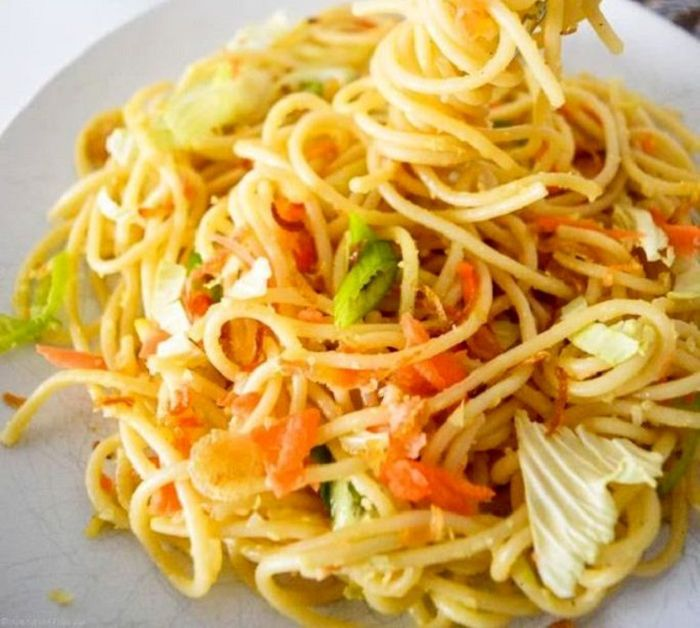Mie: (12, 30, 679, 614)
